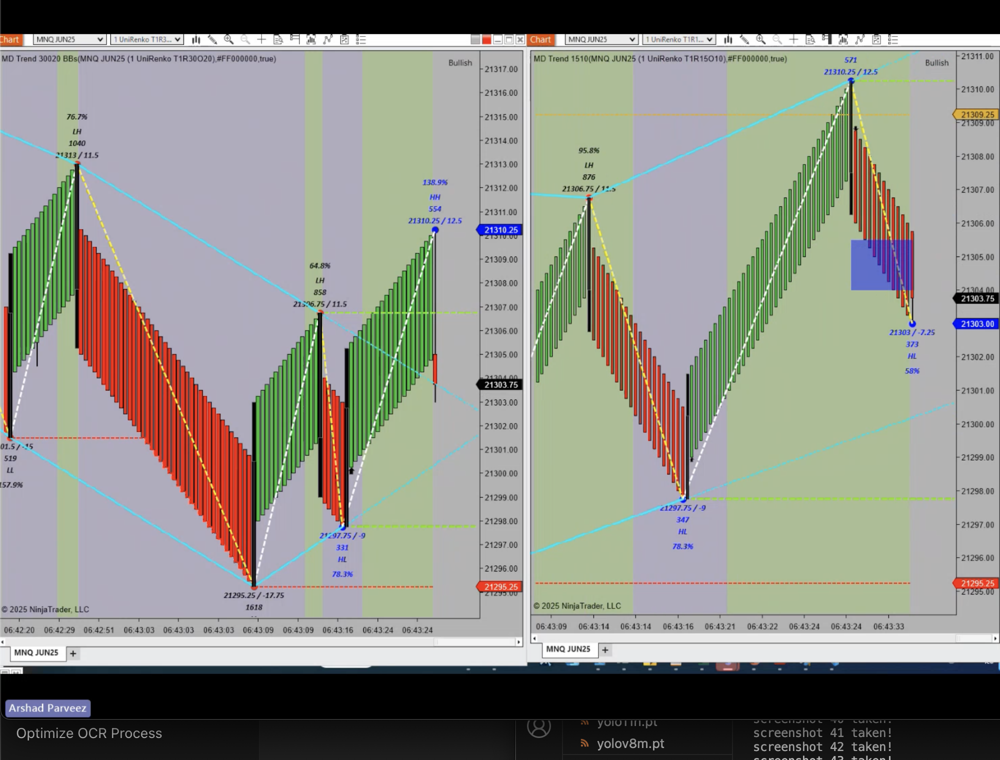HH: (426, 191, 449, 205)
HL: (329, 551, 353, 566), (671, 524, 694, 539), (903, 346, 920, 364)
LH: (579, 158, 602, 175), (66, 124, 88, 138), (308, 275, 329, 286)
LL: (2, 463, 19, 478)
